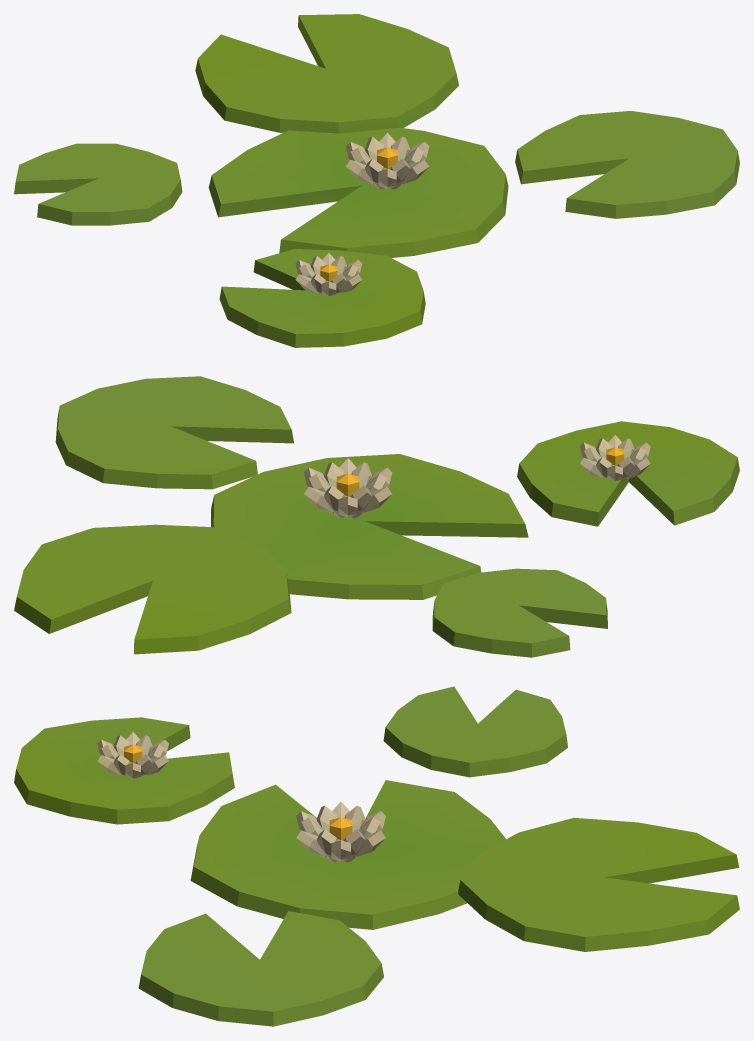
The model's file is Lily_Pads_01.glb.
3 views of the same model, one above another, from view 1: azimuth 30°, elevation 25°; view 2: azimuth 150°, elevation 25°; view 3: azimuth 270°, elevation 25° (orthographic). The views are drawn at different scales.
Visible parts, largest first — view 1: Lily_Pads_01; view 2: Lily_Pads_01; view 3: Lily_Pads_01.
Part boxes in pixels (box(x1,y1,x2,y2)): Lily_Pads_01: box(14, 14, 739, 347); Lily_Pads_01: box(14, 376, 739, 657); Lily_Pads_01: box(14, 686, 739, 1026).
Bounding box in the file's own units: 1.48 × 0.115 × 1.43.
